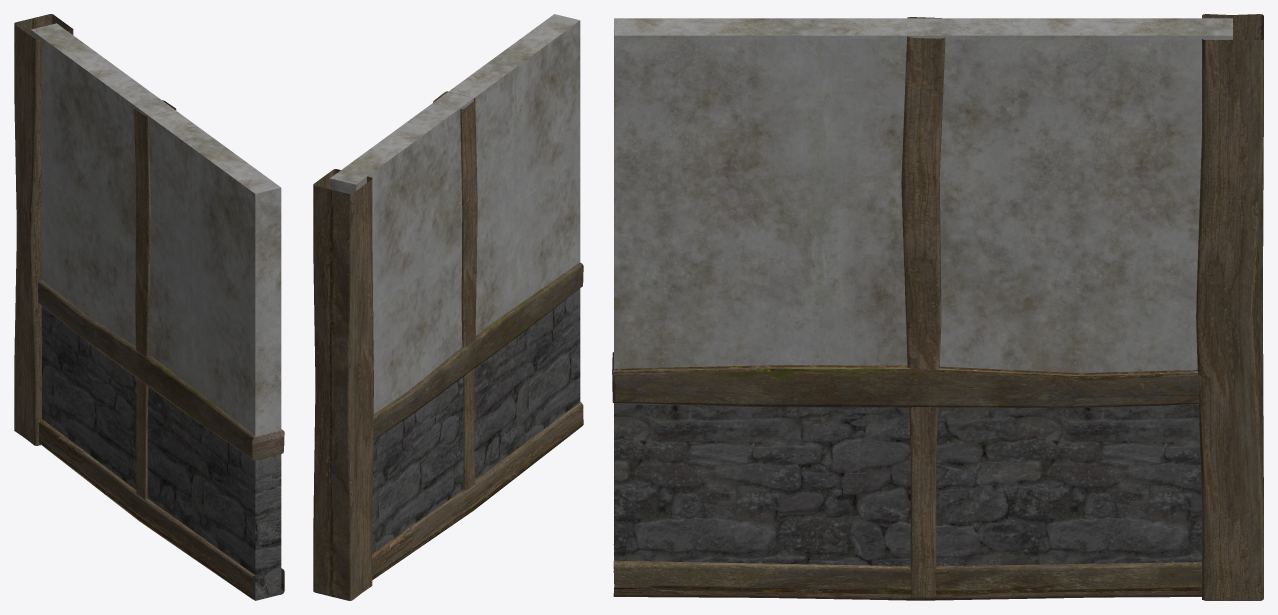
File: SM_Wall54.fbx
3 renders of one model, left to right at view 1: azimuth 30°, elevation 25°; view 2: azimuth 150°, elevation 25°; view 3: azimuth 270°, elevation 25°, orthographic. The views are drawn at different scales.
Visible parts, largest first — view 1: SM_Wall54_LOD0; view 2: SM_Wall54_LOD0; view 3: SM_Wall54_LOD0.
Part boxes in pixels (left/top/right/bottom): SM_Wall54_LOD0: left=14, top=14, right=284, bottom=600; SM_Wall54_LOD0: left=313, top=14, right=583, bottom=600; SM_Wall54_LOD0: left=612, top=14, right=1263, bottom=600.
Size of the model in its own units: 33.65 by 316 by 303.
